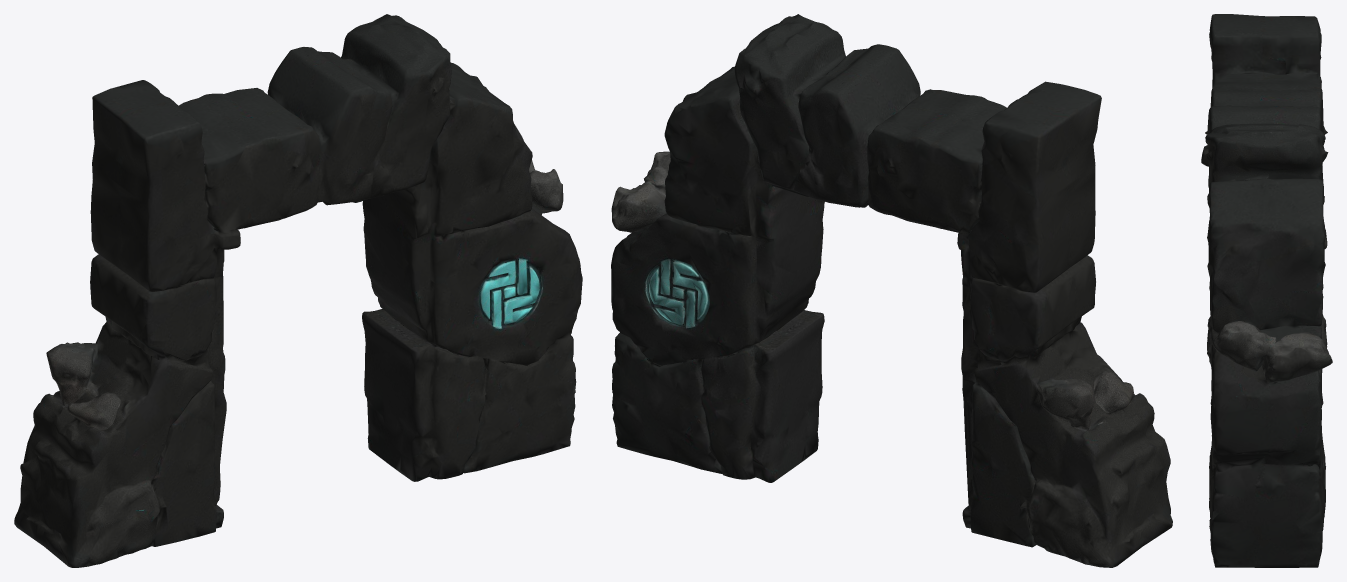
Rendered from ruin-arch.glb.
The picture shows the model from 3 angles, left to right: view 1: azimuth 30°, elevation 25°; view 2: azimuth 150°, elevation 25°; view 3: azimuth 270°, elevation 25°; orthographic projection. The views are drawn at different scales.
Bounding box in the file's own units: 1.9 × 1.52 × 0.4723.
Materials: 1 (1 with a texture image).
